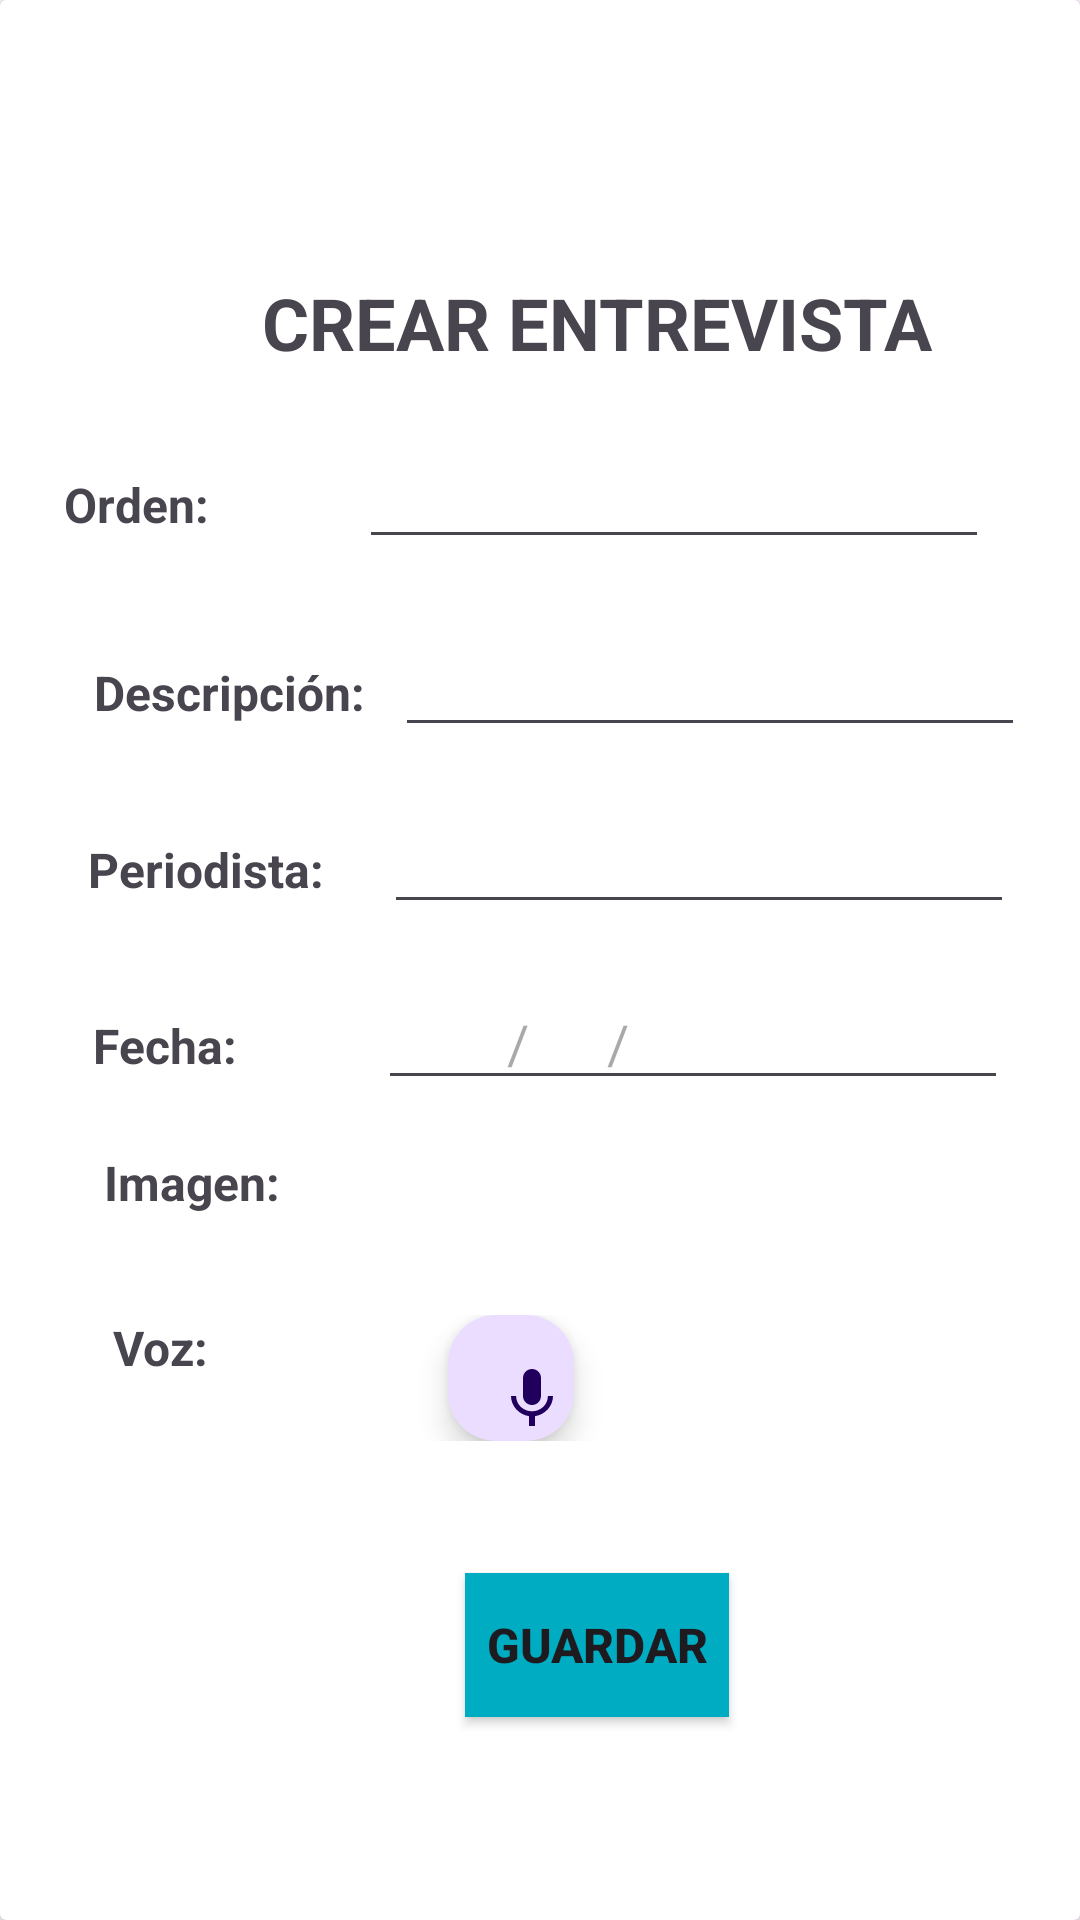

Point at icon controls on the screen. Image size 1080px x 1920px, points as (x=x, y=y).
audio: (x=511, y=1378)
